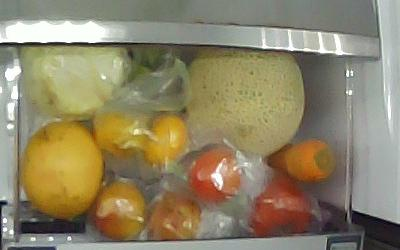cabbage: (20, 45, 128, 120)
carrot: (266, 138, 335, 182)
melon: (183, 46, 304, 158)
pear: (18, 120, 103, 217)
prune_vinyl: (187, 144, 241, 203), (92, 180, 146, 238), (148, 190, 201, 241)
tangerine_vinyl: (91, 109, 150, 157), (142, 110, 188, 166)
tomato_vinyl: (247, 172, 313, 235)
